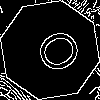O: (25, 25, 85, 82)
